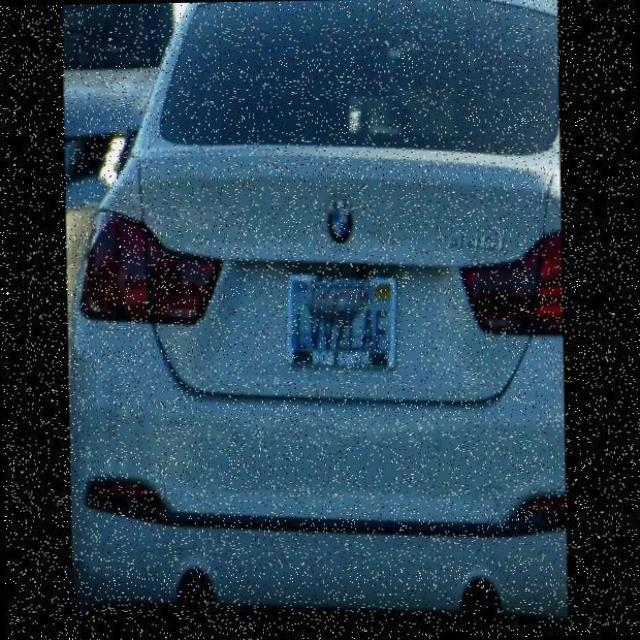License Plate: (284, 266, 396, 378)
